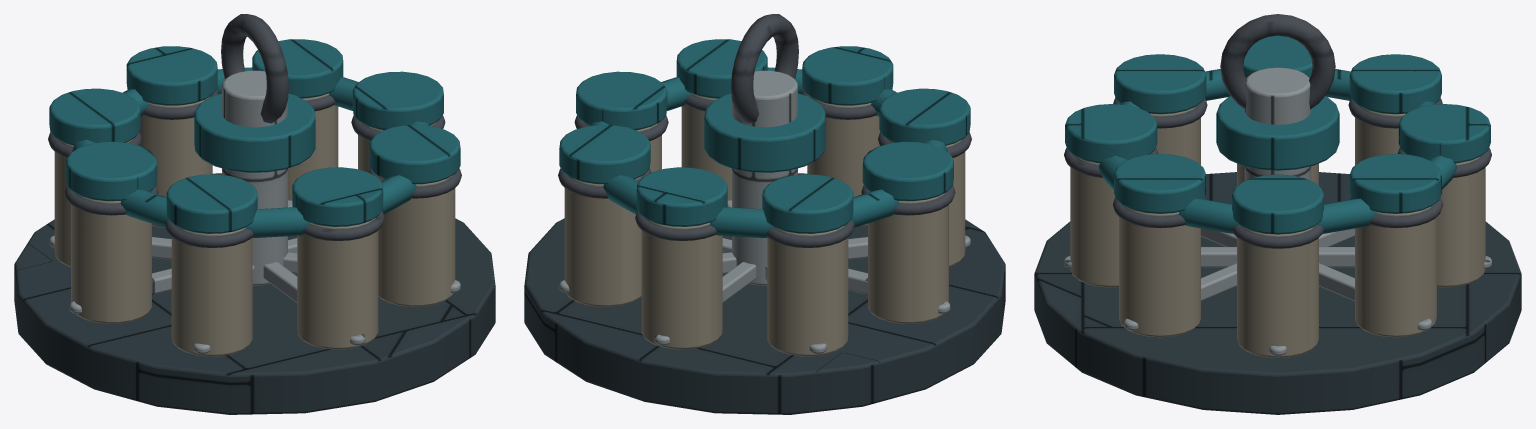
Rendered from cargo-sample-carousel_lod0.glb.
3 views of the same model, side by side, from view 1: azimuth 30°, elevation 25°; view 2: azimuth 150°, elevation 25°; view 3: azimuth 270°, elevation 25° (orthographic).
Parts seen in each view (by area): view 1: LOD0_Livery, LOD0_Ceramic, LOD0_Armor, LOD0_Mechanical, LOD0_BrushedMetal; view 2: LOD0_Livery, LOD0_Ceramic, LOD0_Armor, LOD0_Mechanical, LOD0_BrushedMetal; view 3: LOD0_Livery, LOD0_Armor, LOD0_Ceramic, LOD0_Mechanical, LOD0_BrushedMetal.
Boxes of the visible parts, x1,y1,x2,y2 form: LOD0_Livery: [49, 39, 460, 237]; LOD0_Ceramic: [54, 93, 455, 356]; LOD0_Armor: [14, 173, 495, 414]; LOD0_Mechanical: [48, 14, 461, 247]; LOD0_BrushedMetal: [49, 70, 460, 353]; LOD0_Livery: [559, 39, 970, 237]; LOD0_Ceramic: [564, 93, 965, 356]; LOD0_Armor: [524, 173, 1005, 414]; LOD0_Mechanical: [558, 14, 971, 247]; LOD0_BrushedMetal: [559, 70, 970, 353]; LOD0_Livery: [1065, 35, 1490, 234]; LOD0_Armor: [1034, 172, 1521, 414]; LOD0_Ceramic: [1070, 104, 1485, 357]; LOD0_Mechanical: [1064, 14, 1491, 248]; LOD0_BrushedMetal: [1064, 67, 1491, 355].
Bounding box in the file's own units: 1.9 × 1.29 × 1.9.
Materials: 5 (5 with a texture image).
